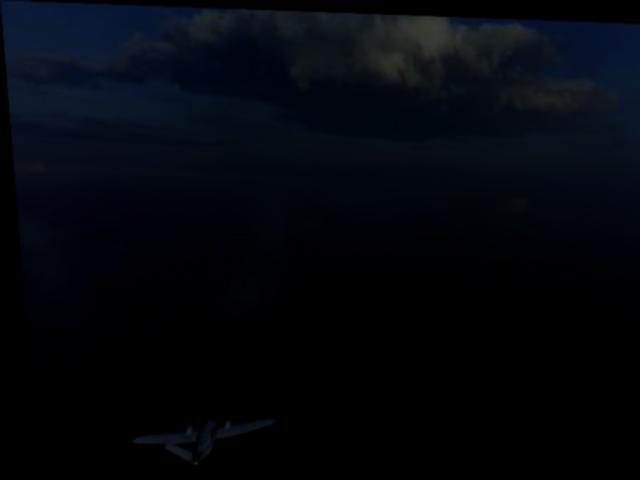uav: (120, 399, 274, 466)
